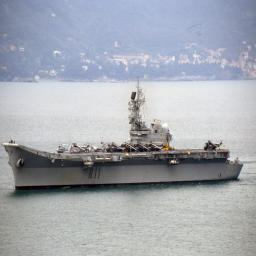Portanaves: (3, 80, 248, 192)
